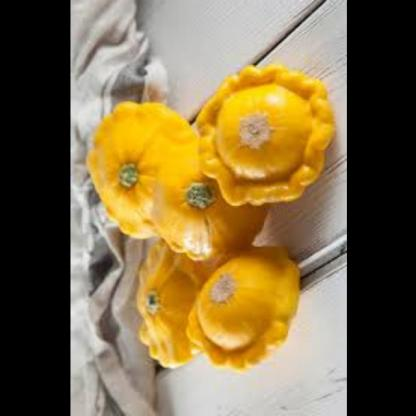squash-patisson: (194, 63, 331, 204), (182, 241, 311, 372), (151, 134, 272, 264), (79, 100, 192, 237), (124, 227, 210, 370)
